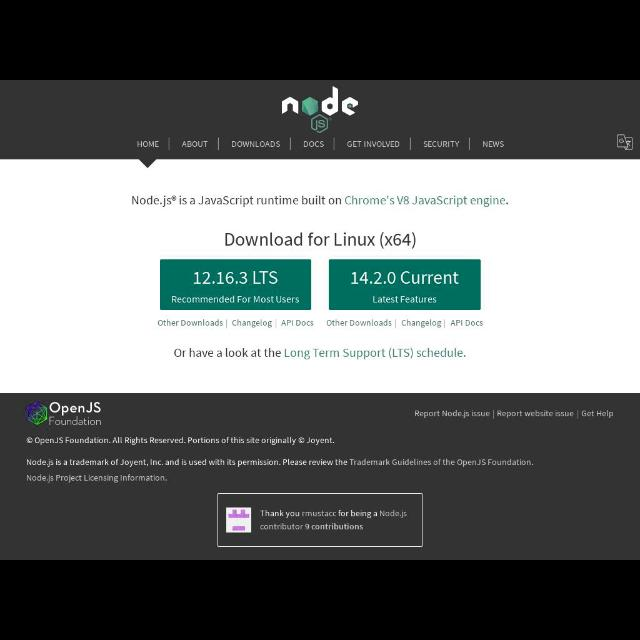icon: (613, 130, 631, 152)
image: (276, 90, 366, 132), (24, 400, 100, 428), (228, 509, 252, 533)
text: (27, 457, 536, 483), (132, 192, 510, 206), (223, 228, 417, 254), (169, 268, 301, 304), (22, 435, 338, 449), (348, 268, 459, 304), (157, 316, 488, 328), (259, 508, 407, 534), (413, 404, 615, 420), (173, 348, 467, 358), (229, 136, 281, 152), (348, 138, 400, 150), (422, 138, 460, 150), (180, 137, 210, 149), (480, 138, 504, 150), (132, 141, 160, 149), (302, 137, 324, 147)
textbutton: (217, 494, 423, 550), (160, 259, 312, 311), (330, 260, 480, 310)
toolbar: (1, 82, 639, 158)
